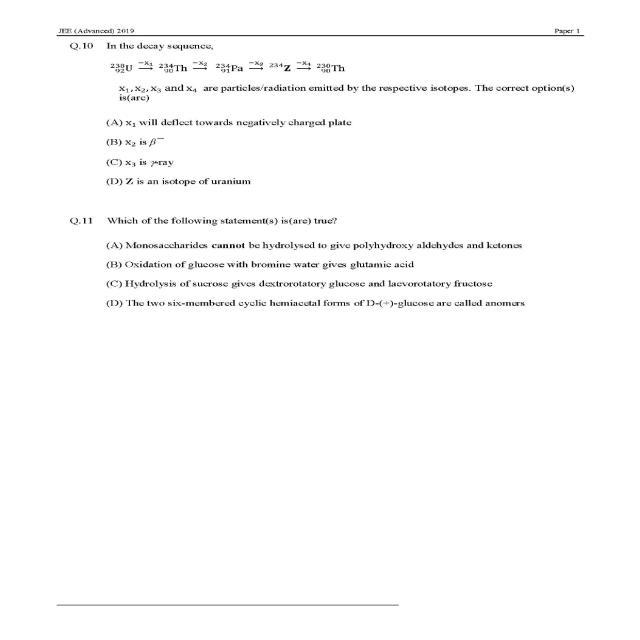Answer_Block: (26, 235, 624, 352), (27, 113, 628, 196)
Question_Answer_Block: (27, 41, 627, 198), (26, 200, 626, 356)
Question_Block: (31, 44, 624, 107), (26, 200, 626, 236)
Question_Paper_Area: (24, 39, 630, 358)
